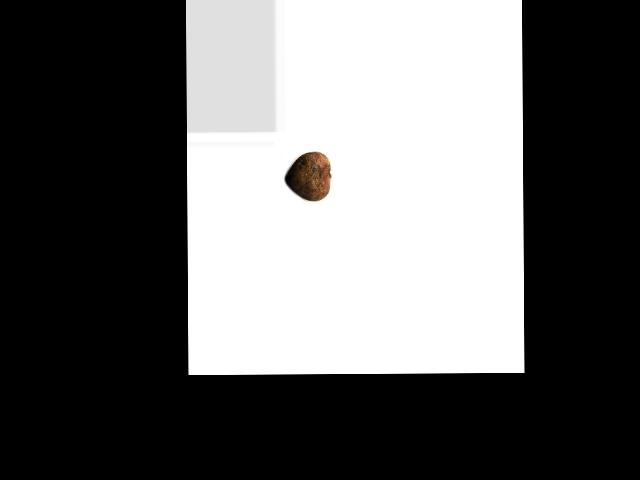beet: (285, 151, 330, 201)
